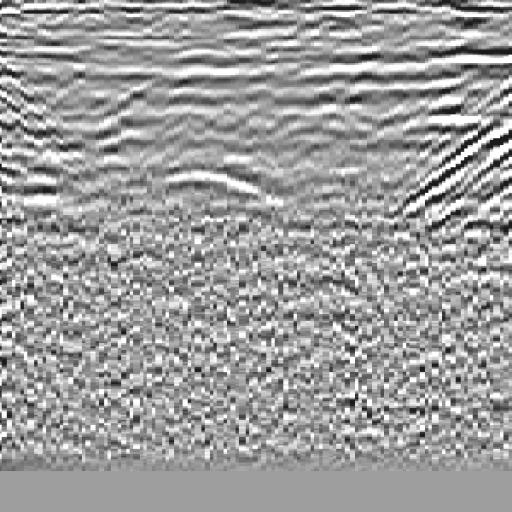metalic: (145, 55, 304, 256)
nonmetalic: (380, 64, 512, 264)
